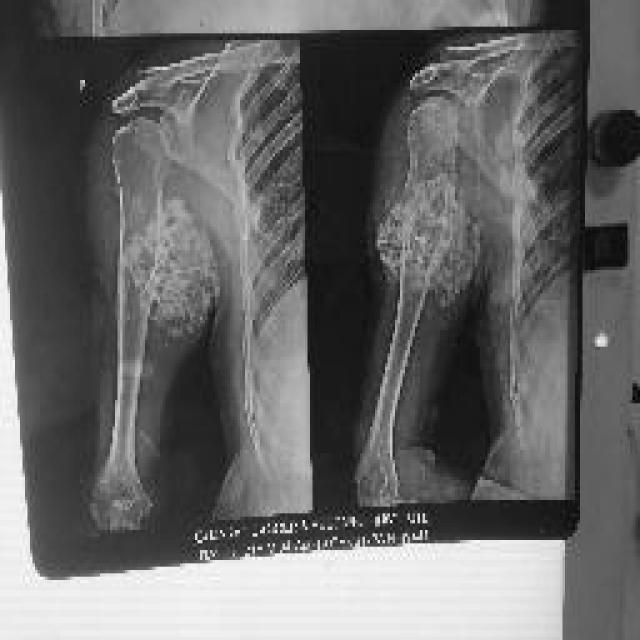bone-cancer: (376, 160, 479, 306), (123, 197, 220, 342)
